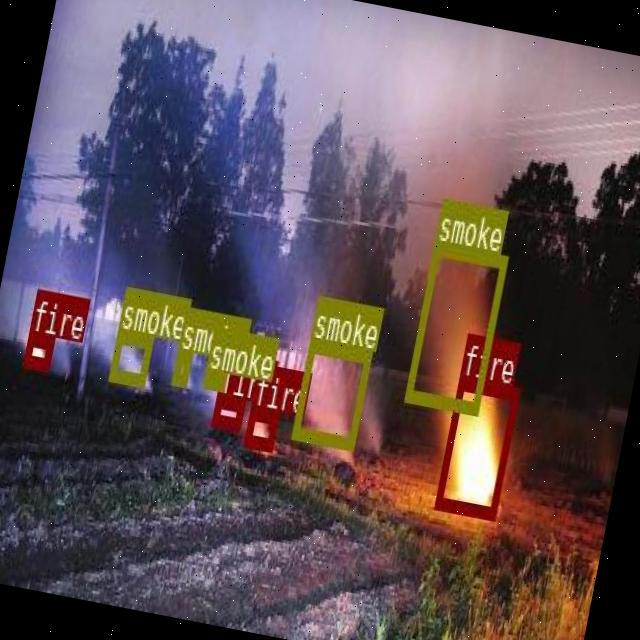fire: (434, 376, 520, 518), (244, 404, 279, 450), (210, 392, 245, 430), (22, 332, 54, 368)
smoke: (403, 242, 508, 414), (292, 339, 371, 446), (108, 328, 153, 384), (172, 350, 192, 386), (202, 368, 226, 390)
